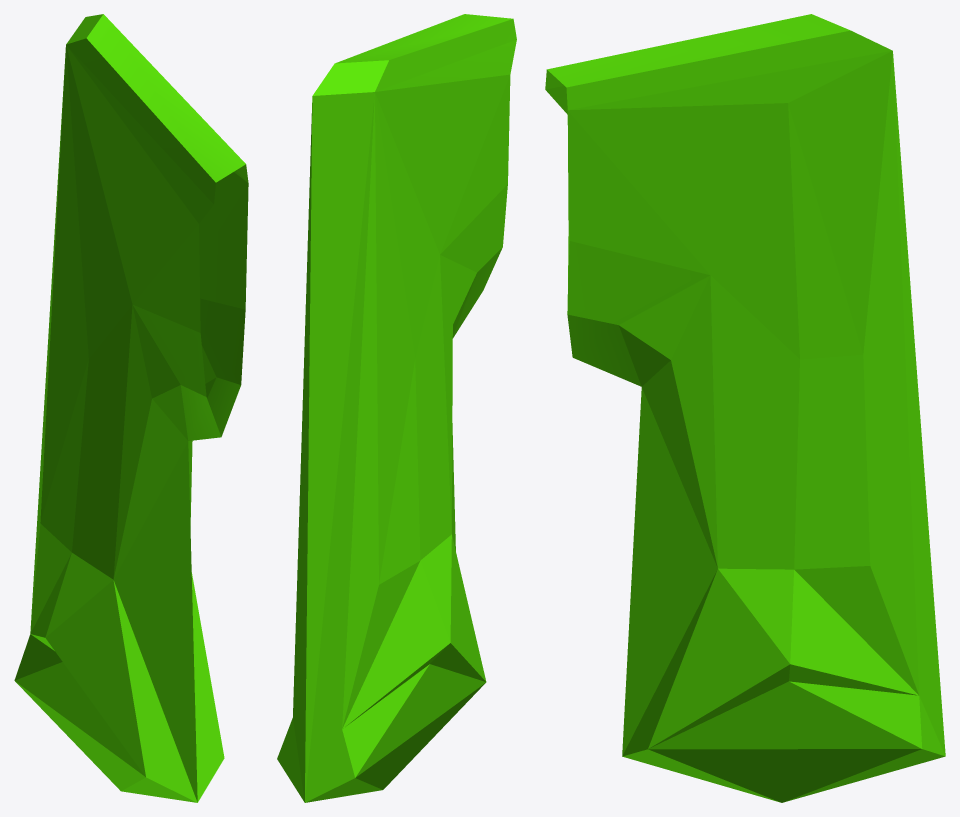
Rendered from Pants_Second_Half.fbx.
The picture shows the model from 3 angles, left to right: view 1: azimuth 30°, elevation 25°; view 2: azimuth 150°, elevation 25°; view 3: azimuth 270°, elevation 25°; orthographic projection. The views are drawn at different scales.
Visible parts, largest first — view 1: Broekje1; view 2: Broekje1; view 3: Broekje1.
Part boxes in pixels (x1,y1,x2,y2): Broekje1: (14, 14, 248, 802); Broekje1: (277, 14, 516, 802); Broekje1: (545, 14, 945, 802).
Size of the model in its own units: 11.4 by 56.98 by 26.5.
